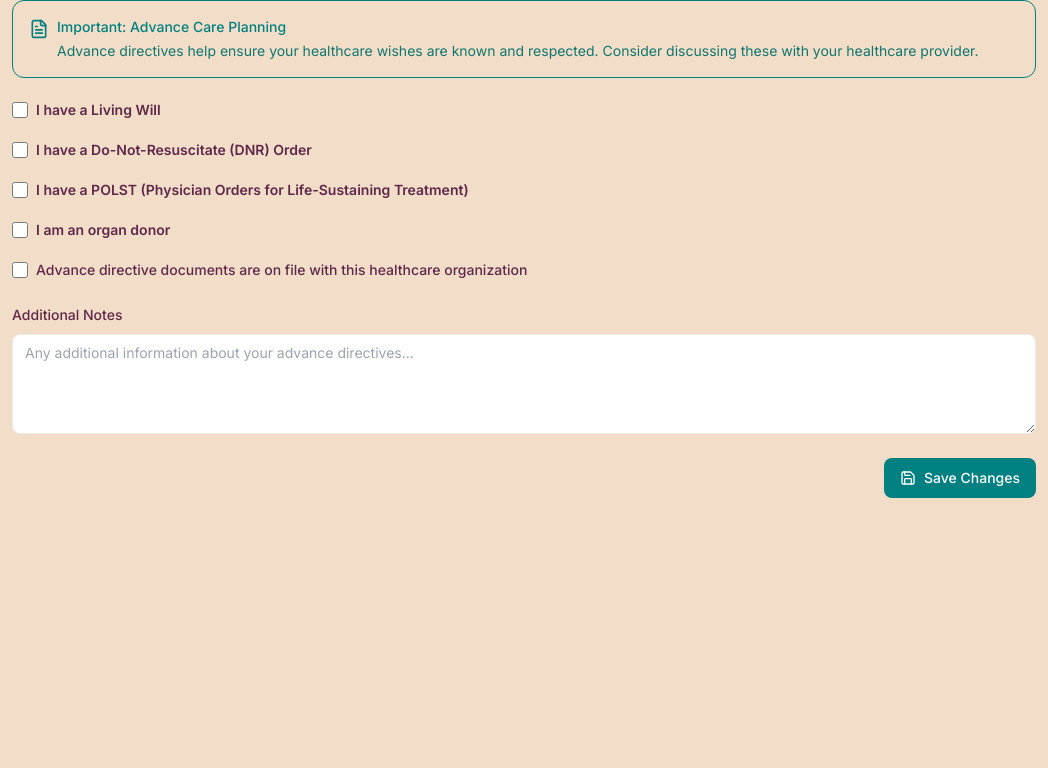
Test: AdvanceDirectivesForm › Living Will › should show date field when living will is checked
Expected: the field labelled "date signed" is not shown
Click the checkbox labelled "I have a Living Will": [20, 110] box [12,102,28,118]
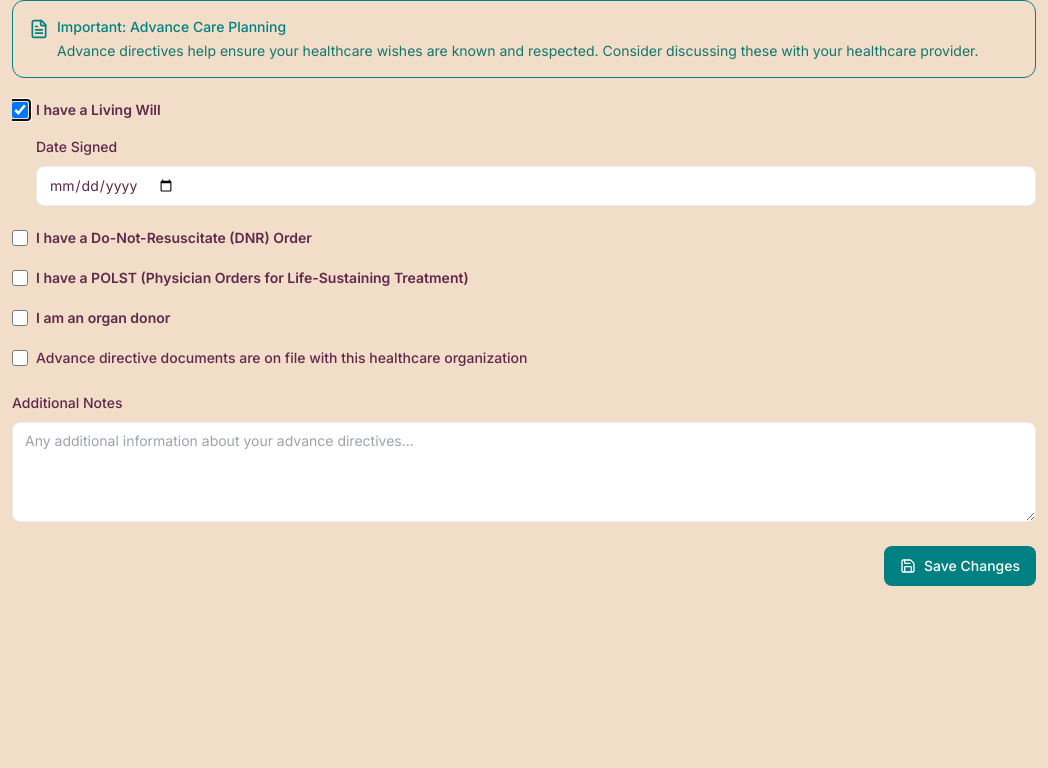
Expected: the date field labelled "Date Signed" is shown, [36,166,1036,206]
